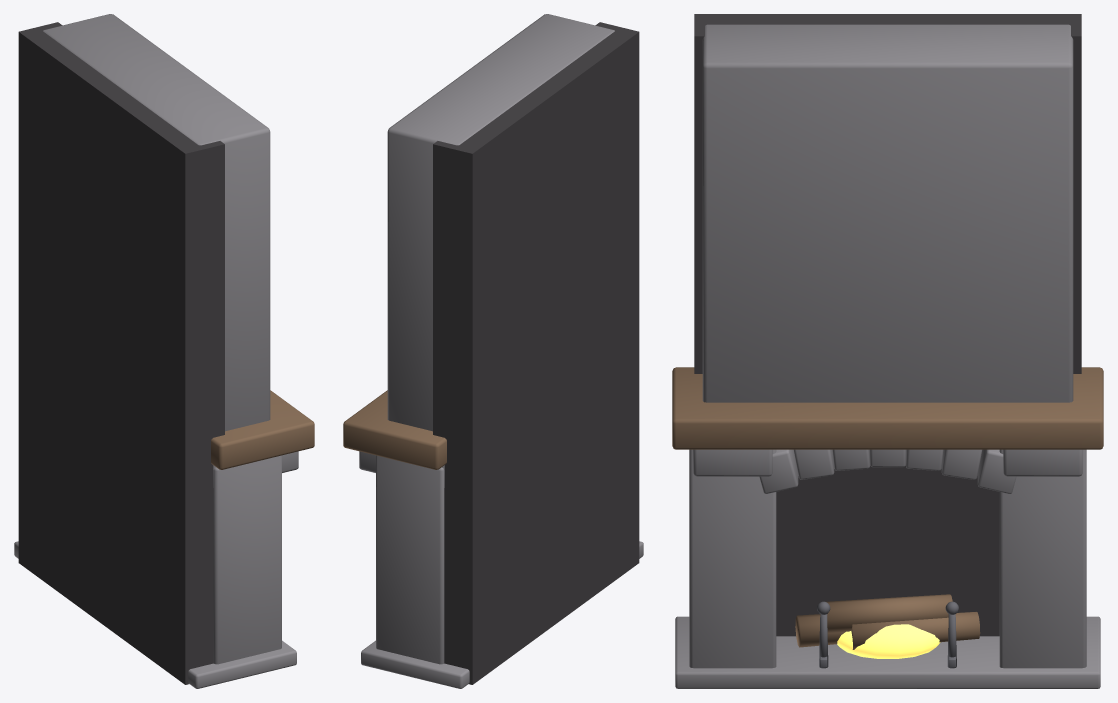
The model's file is tavern_hearth.glb.
The picture shows the model from 3 angles, left to right: view 1: azimuth 30°, elevation 25°; view 2: azimuth 150°, elevation 25°; view 3: azimuth 270°, elevation 25°; orthographic projection. The views are drawn at different scales.
Parts seen in each view (by area): view 1: HearthBack, HearthHood, HearthJamb_L, HearthMantelBeam, HearthSlab; view 2: HearthBack, HearthHood, HearthJamb_R, HearthMantelBeam, HearthSlab; view 3: HearthHood, HearthBack, HearthMantelBeam, HearthJamb_L, HearthJamb_R, HearthSlab, FireLog_0, HearthEmberCore, HearthCorbel_L, HearthCorbel_R, FireLog_14, ArchStone_0 (+7 smaller).
Part boxes in pixels (bbox=[...]): HearthBack: bbox=[18, 22, 224, 684]; HearthHood: bbox=[43, 14, 270, 431]; HearthJamb_L: bbox=[213, 455, 281, 664]; HearthMantelBeam: bbox=[211, 390, 314, 469]; HearthSlab: bbox=[14, 541, 296, 688]; HearthBack: bbox=[433, 22, 639, 684]; HearthHood: bbox=[387, 14, 614, 431]; HearthJamb_R: bbox=[376, 455, 444, 664]; HearthMantelBeam: bbox=[343, 390, 446, 469]; HearthSlab: bbox=[361, 541, 643, 688]; HearthHood: bbox=[702, 24, 1073, 402]; HearthBack: bbox=[694, 14, 1081, 636]; HearthMantelBeam: bbox=[672, 367, 1103, 449]; HearthJamb_L: bbox=[689, 449, 776, 668]; HearthJamb_R: bbox=[999, 449, 1086, 668]; HearthSlab: bbox=[675, 616, 1100, 688]; FireLog_0: bbox=[825, 594, 952, 633]; HearthEmberCore: bbox=[837, 624, 940, 658]; HearthCorbel_L: bbox=[693, 449, 772, 476]; HearthCorbel_R: bbox=[1003, 449, 1082, 476]; FireLog_14: bbox=[851, 611, 980, 649]; ArchStone_0: bbox=[759, 449, 798, 493].
Bounding box in the file's own units: 0.86 × 3.6 × 2.28.
